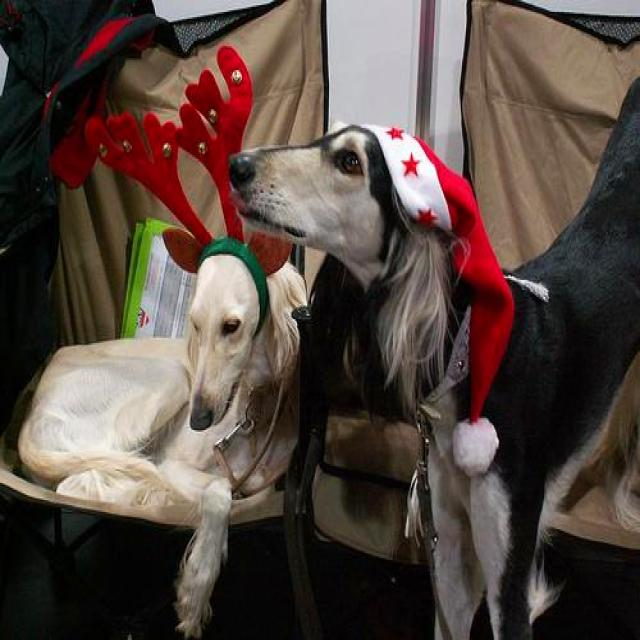saluki: (228, 75, 635, 633), (18, 231, 315, 638)
